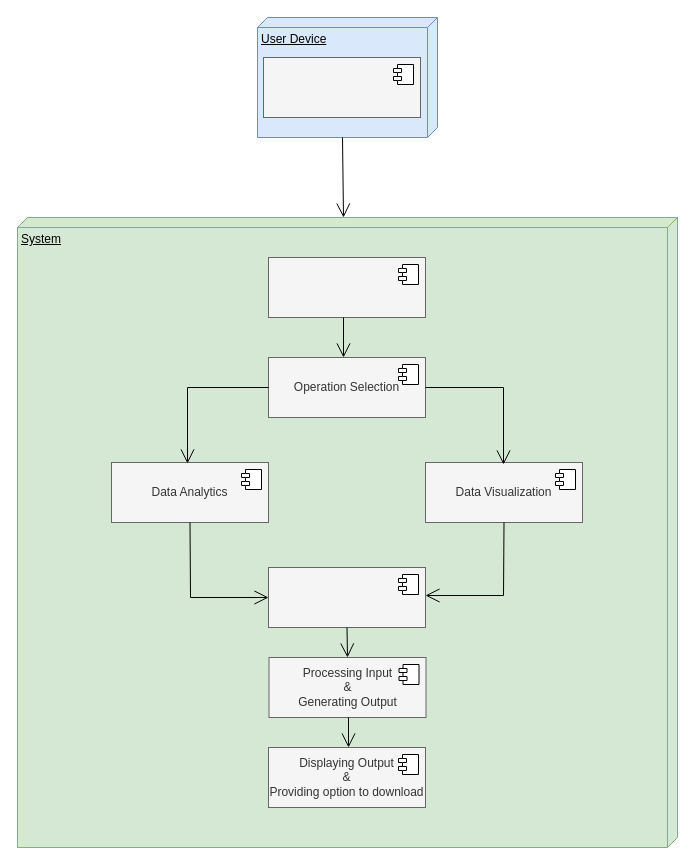
This 695x865 diagram has some shape labels left out. The shapes that lost their labels are listed below. From the top down, each one's box as (x1, y1, x2, y2) in pixels, then its label:
(262, 56, 420, 118): User Interface
(268, 256, 426, 318): CSV File Upload & Processing
(268, 566, 426, 628): Input Selection & Submission
